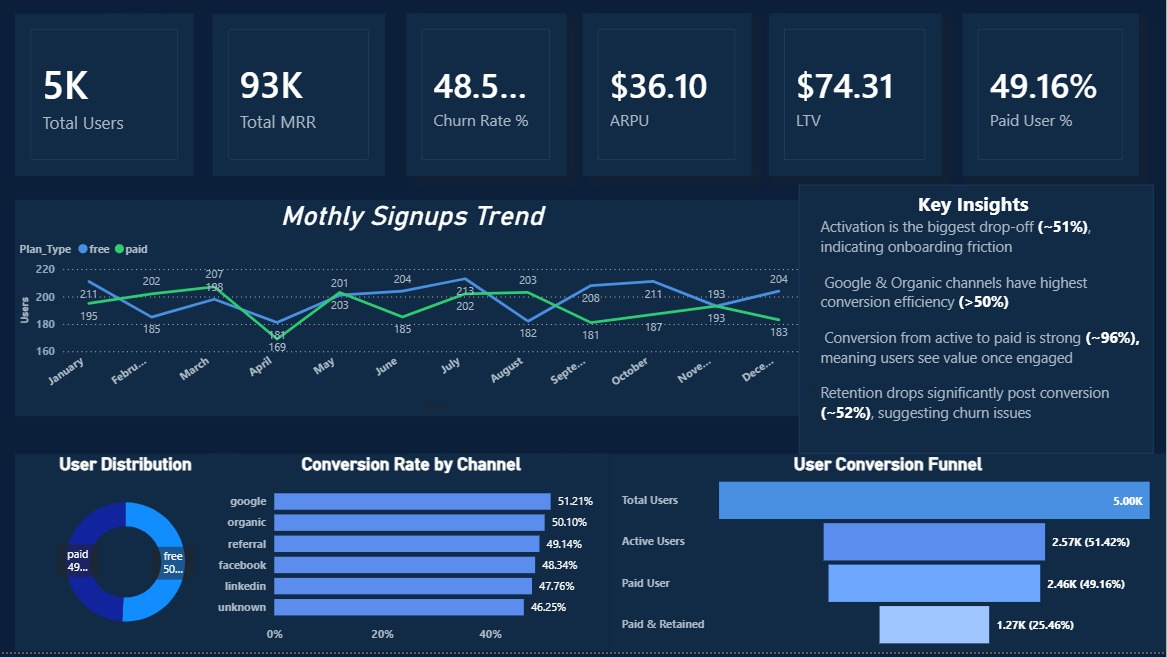

This screenshot's page, from the dashboard's own definition file:
{"tool":"powerbi","page":{"name":"Page 1","canvas":[1280,720],"ordinal":0},"visuals":[{"type":"cardVisual","fields":{"Data":["subscriptions_2026.Total MRR"]},"box":[233.3,19.2,189.4,178.4],"z":0},{"type":"cardVisual","fields":{"Data":["subscriptions_2026.Churn Rate %"]},"box":[446,19.2,175.6,178.4],"z":1000},{"type":"cardVisual","fields":{"Data":["CountNonNull(users_2026.user_id)"]},"box":[16.5,19.2,196.2,178.4],"z":2000},{"type":"cardVisual","fields":{"Data":["subscriptions_2026.ARPU"]},"box":[639.5,19.2,185.2,178.4],"z":3000},{"type":"cardVisual","fields":{"Data":["users_2026.Paid User %"]},"box":[1056.6,19.2,193.5,178.4],"z":4000},{"type":"lineChart","title":"Mothly Signups Trend","fields":{"Y":["CountNonNull(users_2026.user_id)"],"Series":["users_2026.plan_type"],"Category":["users_2026.signup_date_clean.Variation.Date Hierarchy.Month"]},"box":[16.5,223.7,871.4,237.4],"z":5000},{"type":"donutChart","title":"User Distribution","fields":{"Category":["users_2026.plan_type"],"Y":["CountNonNull(users_2026.user_id)"]},"box":[16.5,502.2,242.9,216.8],"z":6000},{"type":"clusteredBarChart","title":"Conversion Rate by Channel ","fields":{"Category":["users_2026.acquisition_channel"],"Y":["users_2026.Paid User %"]},"box":[233.3,502.2,436.4,216.8],"z":7000},{"type":"cardVisual","fields":{"Data":["subscriptions_2026.Active Paid Users"]},"box":[835.7,19.2,205.8,178.4],"z":8000},{"type":"funnel","title":"User Conversion Funnel","fields":{"Y":["CountNonNull(users_2026.user_id)","subscriptions_2026.Active Users","users_2026.Paid Users","users_2026.Paid & Active"]},"box":[669.6,502.2,610.6,218.2],"z":9000},{"type":"textbox","box":[876.8,207.2,389.7,295],"z":10000}]}

Visuals, with their boxes in screenshot pixels (x1, y1, x2, y2), scaled from the page's 1280x720 canvas onto the 1167x657 screenshot:
cardVisual - subscriptions_2026.Total MRR: bbox(213, 18, 385, 180)
cardVisual - subscriptions_2026.Churn Rate %: bbox(407, 18, 567, 180)
cardVisual - CountNonNull(users_2026.user_id): bbox(15, 18, 194, 180)
cardVisual - subscriptions_2026.ARPU: bbox(583, 18, 752, 180)
cardVisual - users_2026.Paid User %: bbox(963, 18, 1140, 180)
"Mothly Signups Trend" lineChart: bbox(15, 204, 810, 421)
"User Distribution" donutChart: bbox(15, 458, 236, 656)
"Conversion Rate by Channel " clusteredBarChart: bbox(213, 458, 611, 656)
cardVisual - subscriptions_2026.Active Paid Users: bbox(762, 18, 950, 180)
"User Conversion Funnel" funnel: bbox(610, 458, 1166, 656)
textbox: bbox(799, 189, 1155, 458)
